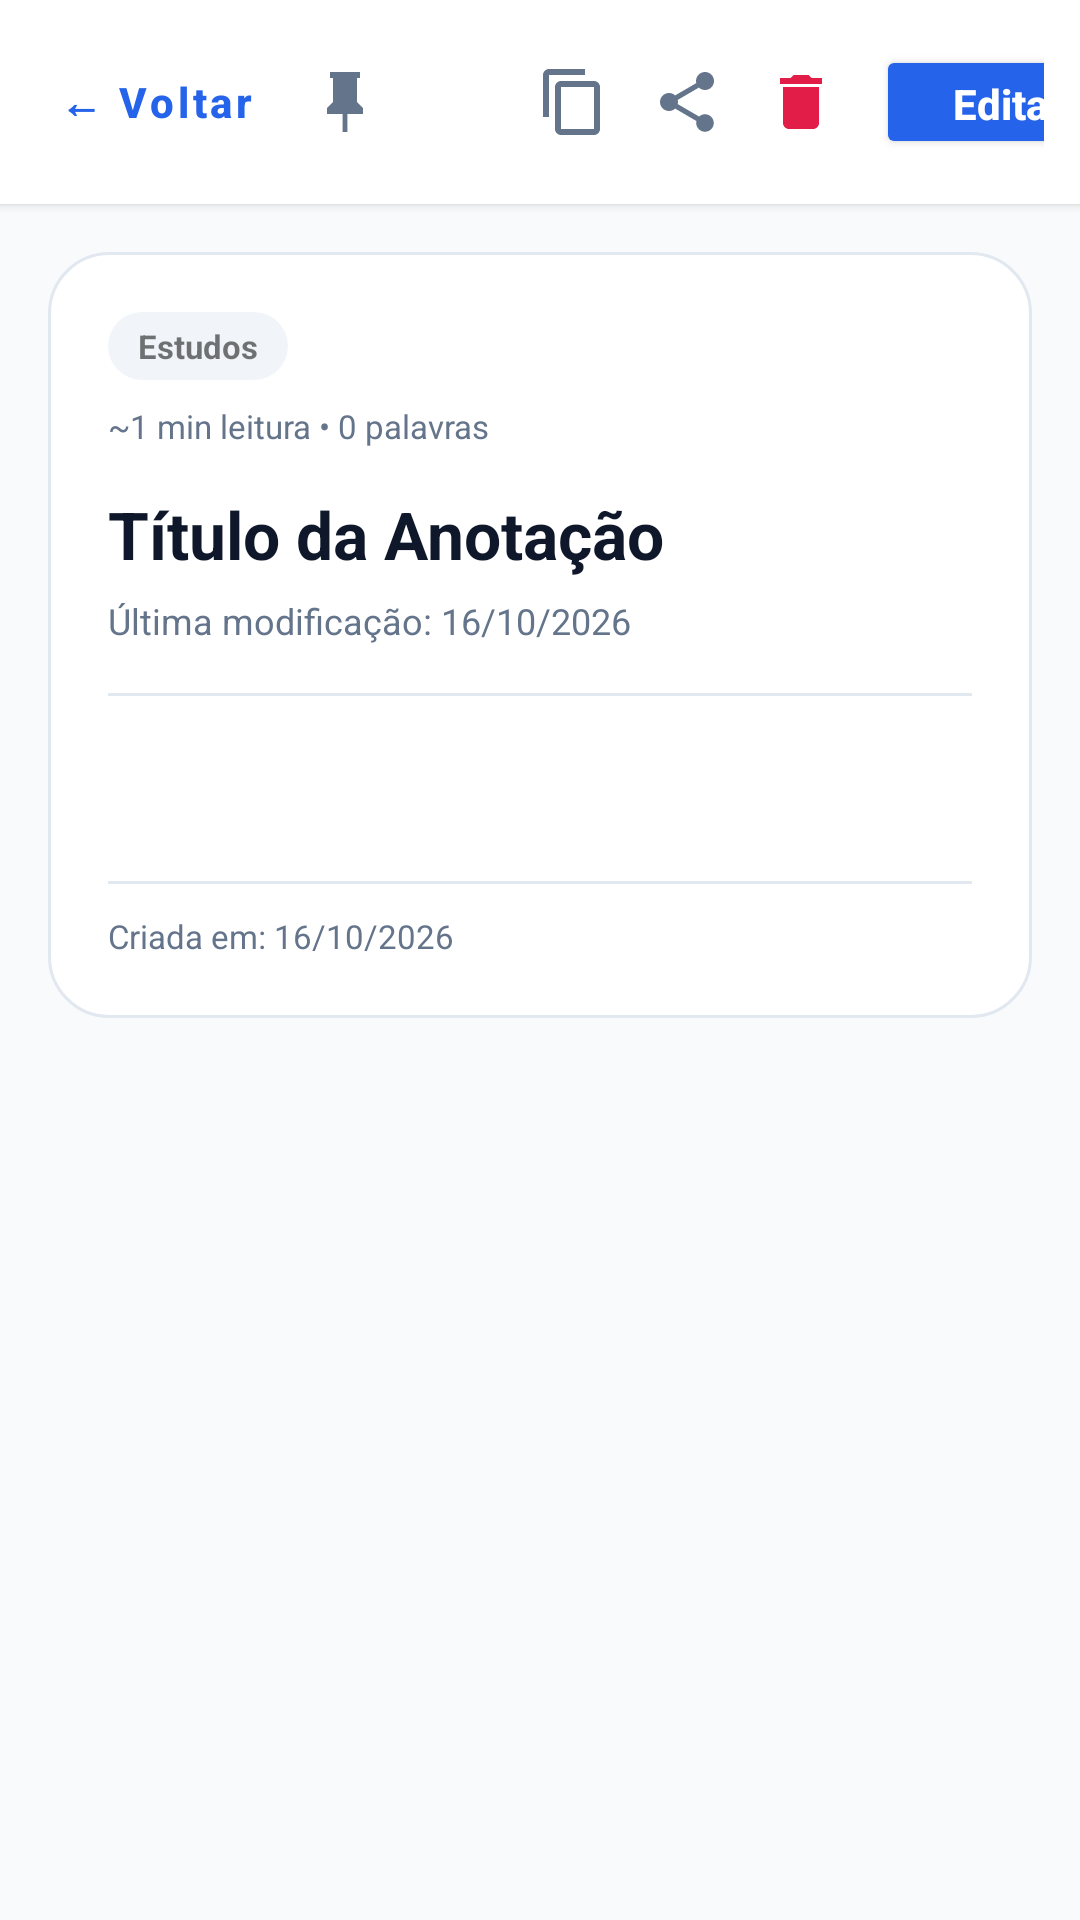

Where icons sit on this 1080×1920 app screen, as (x1, y1, x2, y2):
Compartilhar anotação: (660, 72, 714, 132)
Copiar anotação: (543, 69, 600, 135)
Excluir anotação: (780, 75, 822, 129)
Fixar no topo: (327, 72, 363, 132)
